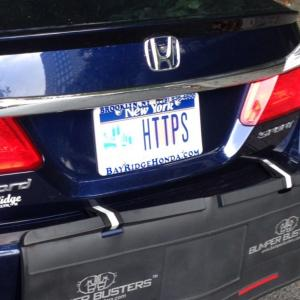Vehicle-registration-plate: (97, 97, 201, 178)
